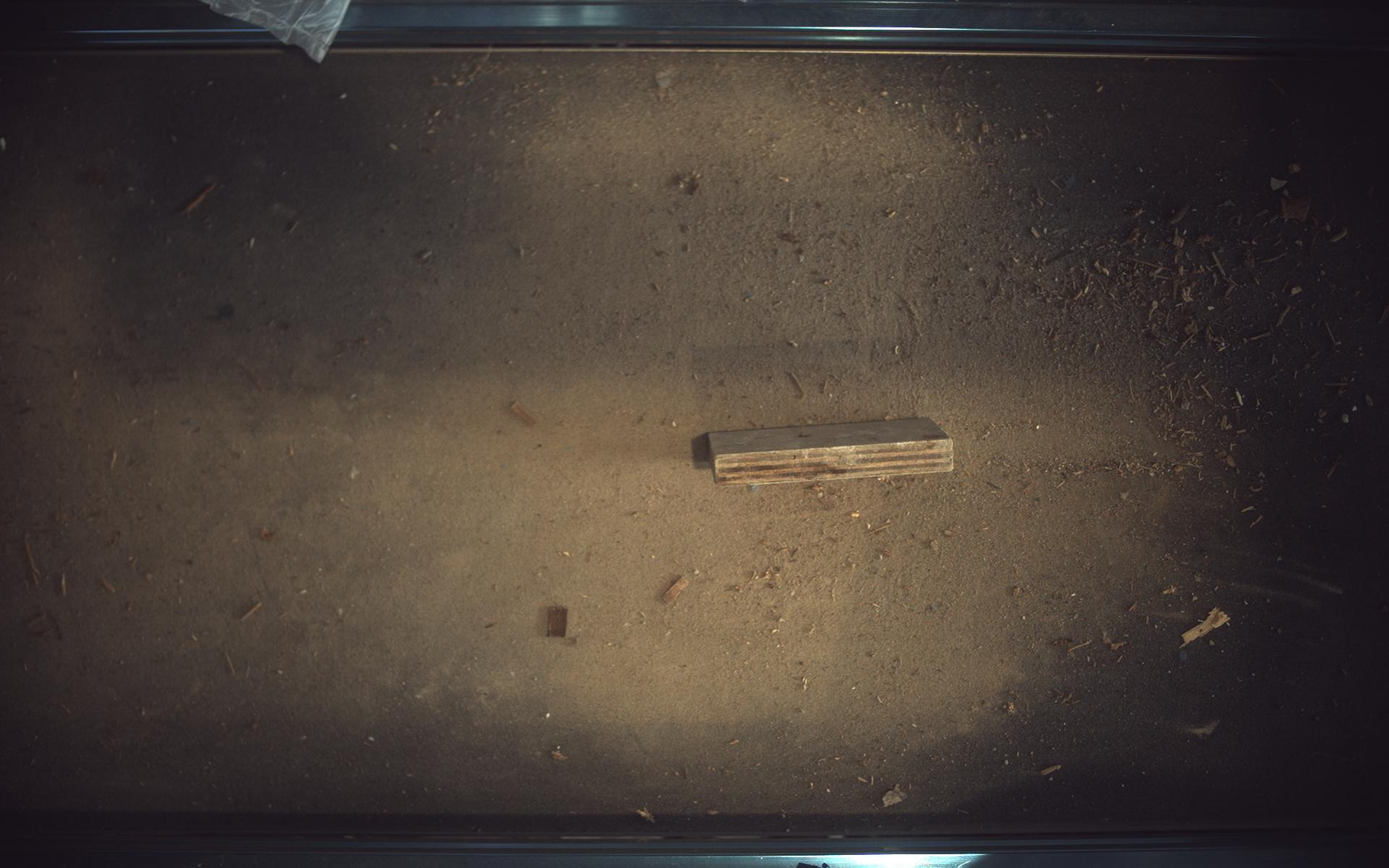wood: (697, 417, 956, 485)
